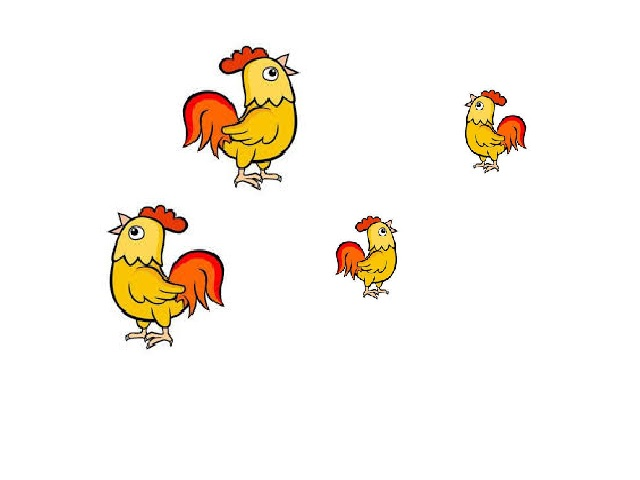crown: (138, 202, 190, 234), (218, 45, 269, 73), (482, 88, 508, 105), (355, 215, 381, 232)
eyes: (261, 64, 283, 83), (128, 224, 144, 240), (378, 227, 389, 239), (476, 101, 486, 110)
feet: (234, 169, 288, 191), (124, 328, 175, 349), (474, 159, 498, 176), (363, 287, 390, 300)
tail: (169, 251, 229, 319), (183, 91, 239, 161), (497, 115, 528, 156), (335, 241, 364, 282)
